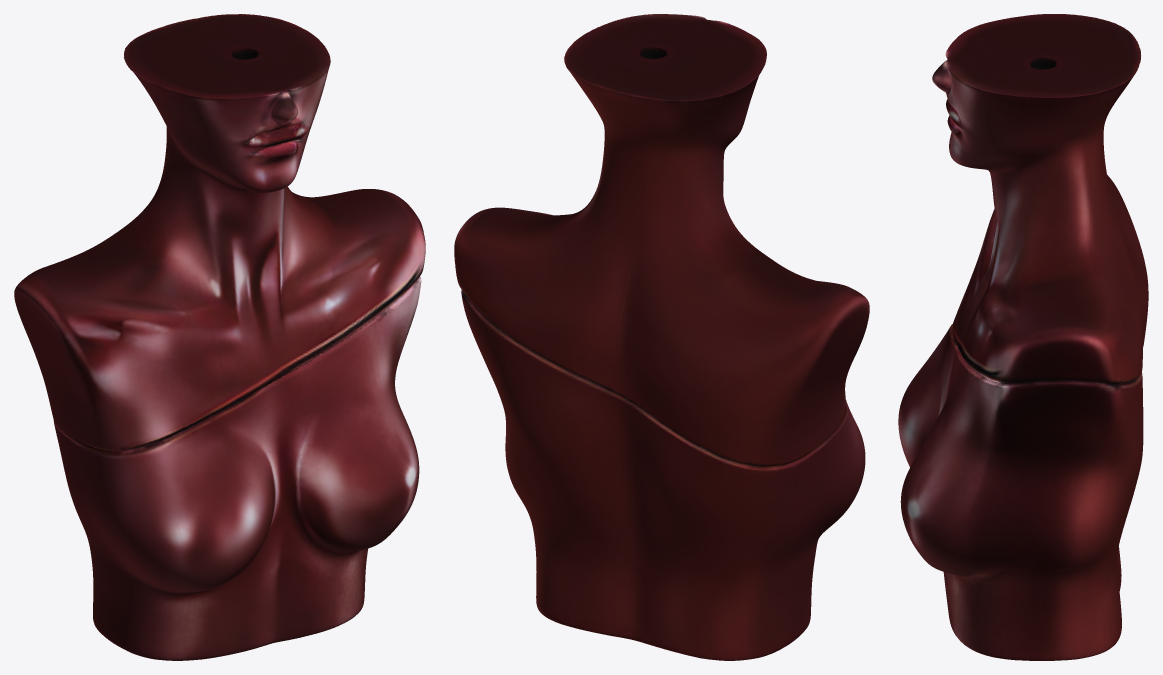
File: belissima-busto-frontal.glb
The picture shows the model from 3 angles, left to right: view 1: azimuth 30°, elevation 25°; view 2: azimuth 150°, elevation 25°; view 3: azimuth 270°, elevation 25°; orthographic projection.
Visible parts, largest first — view 1: belissima-busto-frontal; view 2: belissima-busto-frontal; view 3: belissima-busto-frontal.
Boxes of the visible parts, <box> form: belissima-busto-frontal: <box>14,14,425,660</box>; belissima-busto-frontal: <box>454,14,869,660</box>; belissima-busto-frontal: <box>898,14,1148,660</box>.
Size of the model in its own units: 0.5813 by 0.8162 by 0.3359.
Materials: 1 (1 with a texture image).
